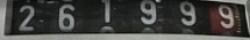digits: (58, 3, 75, 31), (17, 4, 35, 30), (179, 0, 197, 25), (140, 0, 157, 24), (217, 5, 234, 28), (101, 0, 112, 23)
